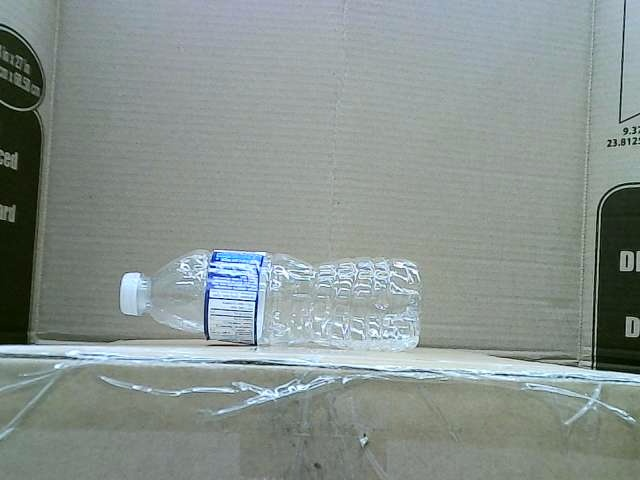WaterBottle: (119, 250, 421, 350)
